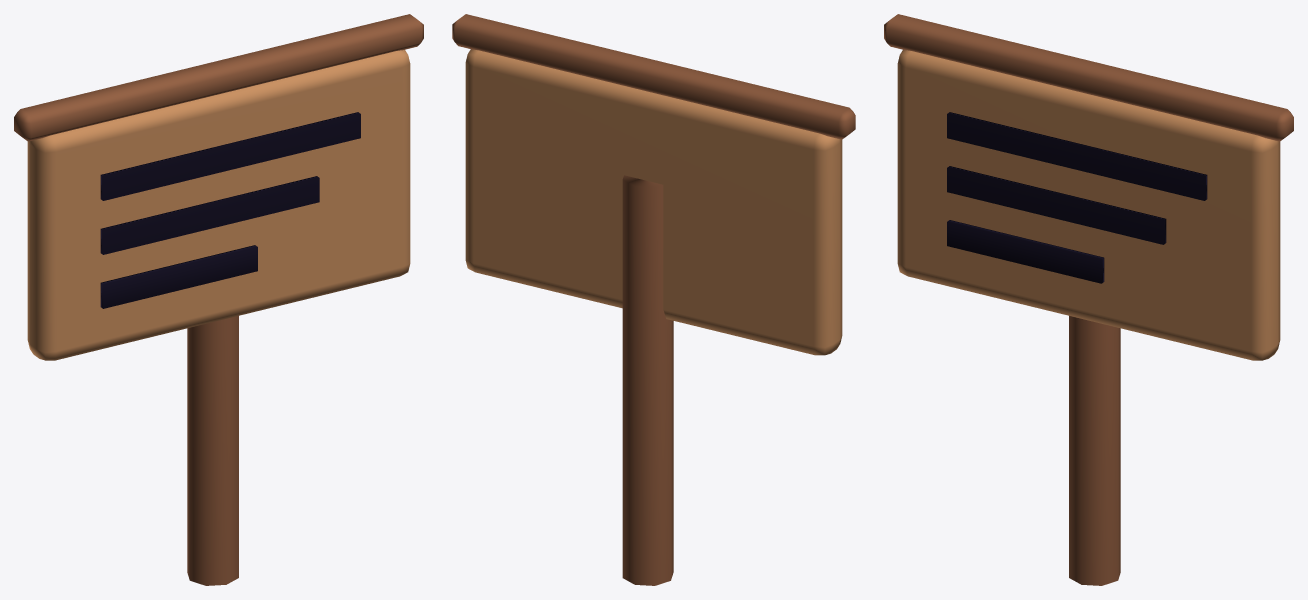
File: sign.glb
The picture shows the model from 3 angles, left to right: view 1: azimuth 30°, elevation 25°; view 2: azimuth 150°, elevation 25°; view 3: azimuth 330°, elevation 25°; orthographic projection.
Parts seen in each view (by area): view 1: Sign.001; view 2: Sign.001; view 3: Sign.001.
Part boxes in pixels (left/top/right/bottom): Sign.001: left=14, top=14, right=423, bottom=585; Sign.001: left=452, top=14, right=855, bottom=585; Sign.001: left=884, top=14, right=1293, bottom=585.
Bounding box in the file's own units: 0.78 × 0.955 × 0.109.
